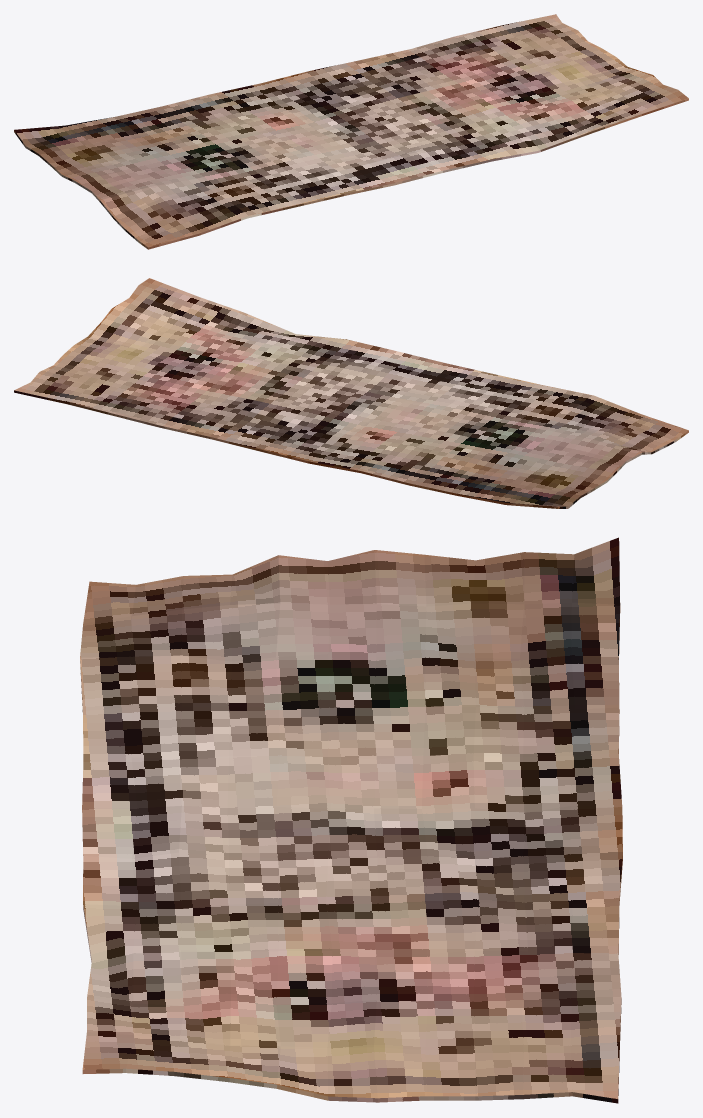
File: money_bill.glb
3 renders of one model, top to bottom at view 1: azimuth 30°, elevation 25°; view 2: azimuth 150°, elevation 25°; view 3: azimuth 270°, elevation 25°, orthographic. The views are drawn at different scales.
Visible parts, largest first — view 1: Plane; view 2: Plane; view 3: Plane.
Part boxes in pixels (x1,y1,x2,y2): Plane: (14, 14, 688, 249); Plane: (14, 278, 688, 508); Plane: (80, 537, 622, 1103).
Bounding box in the file's own units: 0.2491 × 0.0107 × 0.1078.
Materials: 2 (2 with a texture image).
